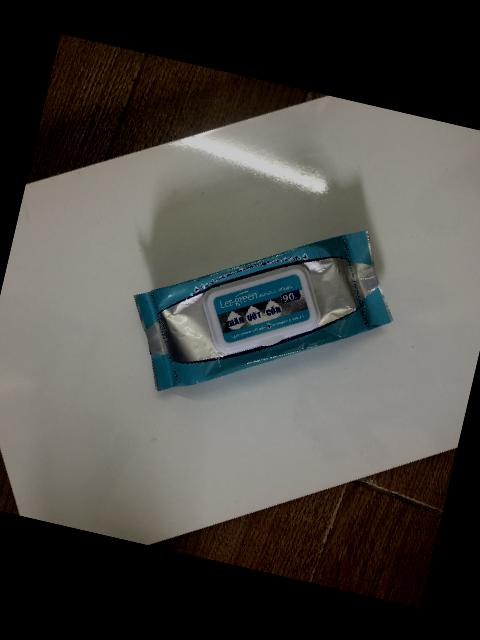Let-green_alcohol_wipes: (135, 228, 394, 393)
